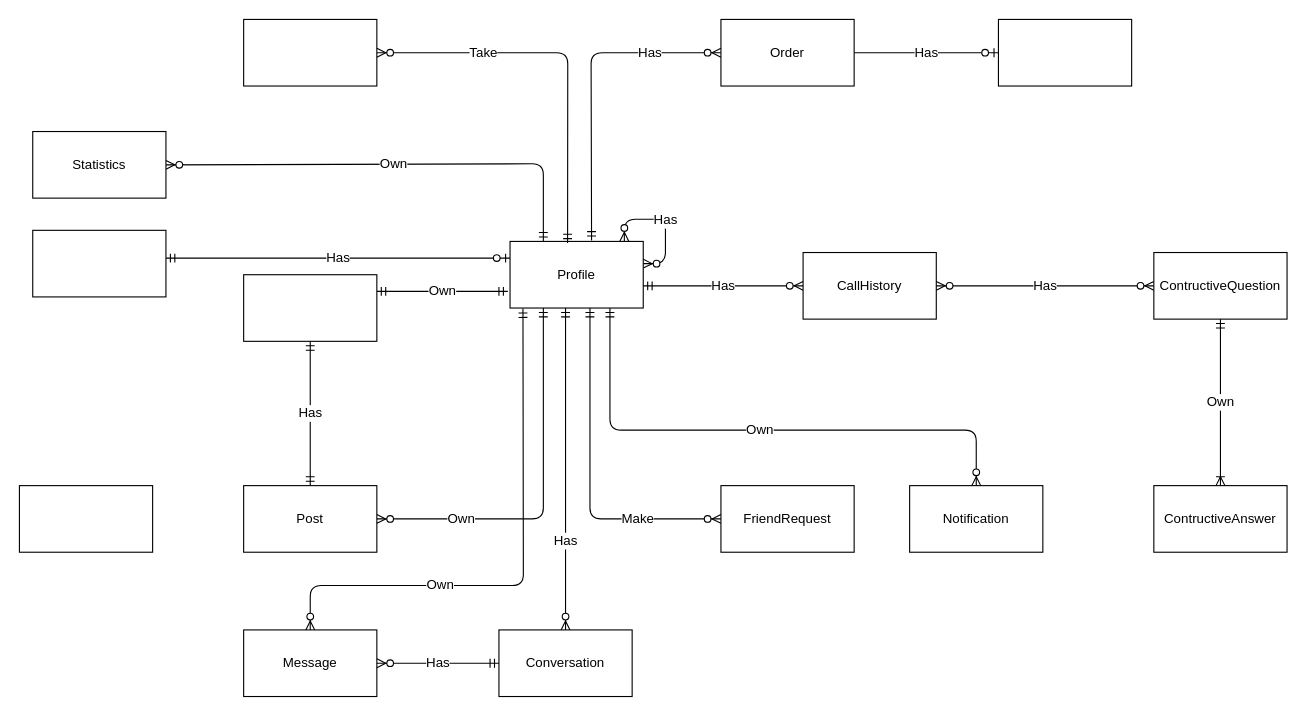
The diagram is 1306 pixels wide and 716 high, and some of its shapes have lost their labels. The shapes that lost their labels are listed below. From the top down, each one's centre as x and y in pixels, then its label:
[310,52]: MBTITest
[1064,52]: Payment
[99,263]: Account
[310,307]: Image
[85,518]: Registrator
